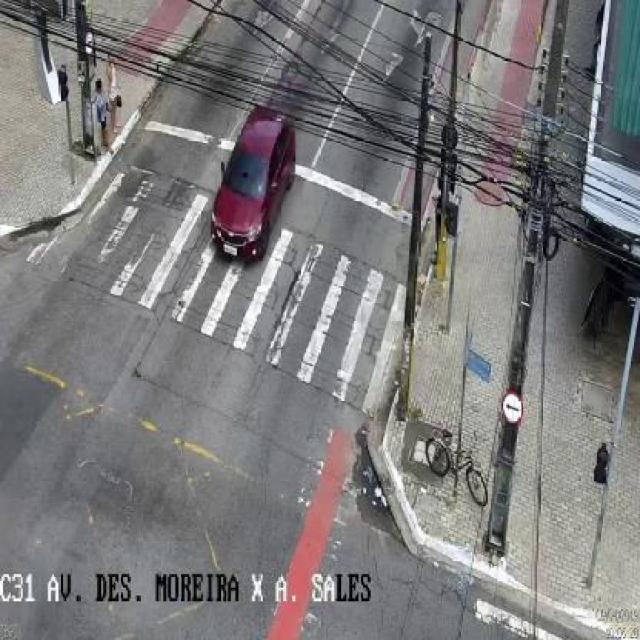Car: (206, 98, 298, 271)
